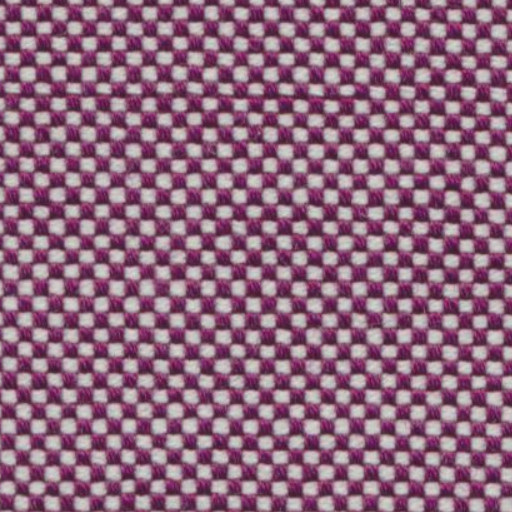TuoSha: (9, 54, 498, 150)
